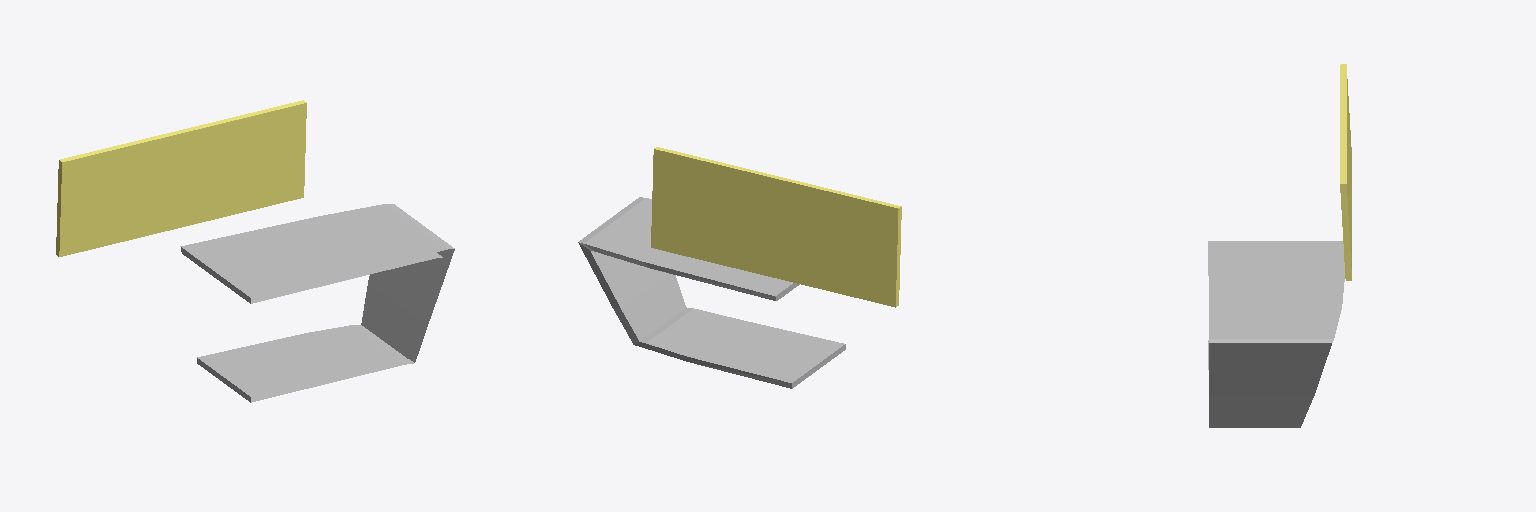
The model's file is test car.obj.
3 views of the same model, side by side, from view 1: azimuth 30°, elevation 25°; view 2: azimuth 150°, elevation 25°; view 3: azimuth 270°, elevation 25° (orthographic).
Parts seen in each view (by area): view 1: polySurface14 pasted__polySurface14 polySurface16, pCube1; view 2: pCube1, polySurface14 pasted__polySurface14 polySurface16; view 3: polySurface14 pasted__polySurface14 polySurface16, pCube1.
Part boxes in pixels (left/top/right/bottom): polySurface14 pasted__polySurface14 polySurface16: left=180, top=204, right=454, bottom=402; pCube1: left=56, top=100, right=306, bottom=256; pCube1: left=651, top=147, right=901, bottom=307; polySurface14 pasted__polySurface14 polySurface16: left=578, top=197, right=845, bottom=388; polySurface14 pasted__polySurface14 polySurface16: left=1208, top=241, right=1344, bottom=427; pCube1: left=1340, top=64, right=1351, bottom=280.
Size of the model in its own units: 2.28 by 1.49 by 0.8704.